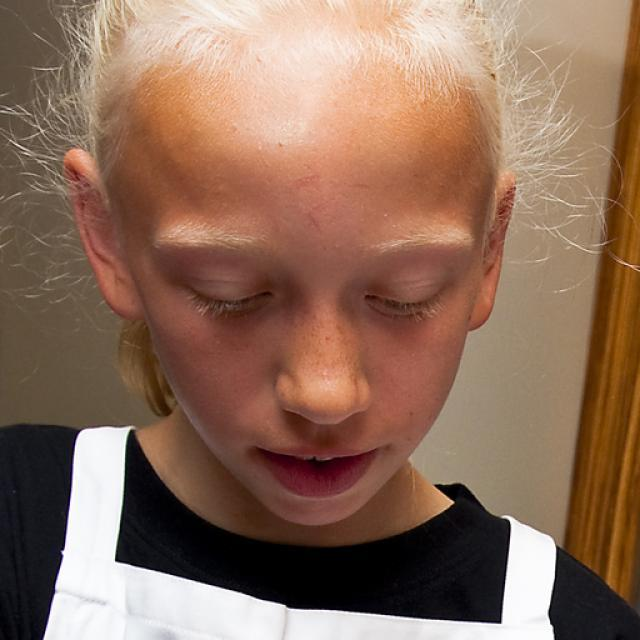sad: (136, 78, 476, 527)
